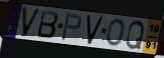B: (36, 9, 60, 39)
O: (105, 18, 125, 48)
P: (60, 13, 83, 42)
Q: (125, 20, 146, 50)
V: (21, 6, 42, 38), (86, 15, 105, 46)
